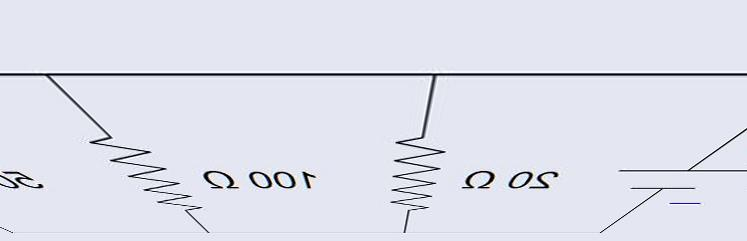resistor: (86, 116, 198, 215), (373, 114, 446, 220)
